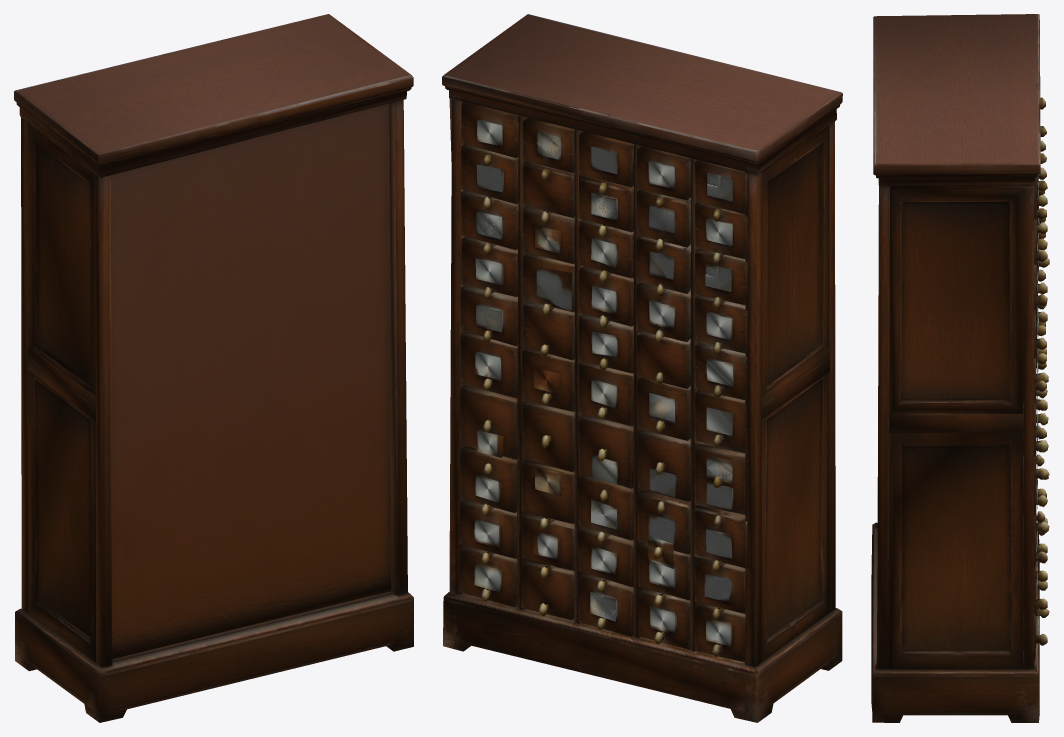
Rendered from furniture-multi-drawer-file-cabinet.glb.
3 renders of one model, left to right at view 1: azimuth 30°, elevation 25°; view 2: azimuth 150°, elevation 25°; view 3: azimuth 270°, elevation 25°, orthographic. The views are drawn at different scales.
Visible parts, largest first — view 1: tripo_node_92e1fb6b-b6b1-4789-9920-8fc09597d9d2; view 2: tripo_node_92e1fb6b-b6b1-4789-9920-8fc09597d9d2; view 3: tripo_node_92e1fb6b-b6b1-4789-9920-8fc09597d9d2.
Part boxes in pixels (x1,y1,x2,y2): tripo_node_92e1fb6b-b6b1-4789-9920-8fc09597d9d2: (14, 14, 413, 722); tripo_node_92e1fb6b-b6b1-4789-9920-8fc09597d9d2: (442, 14, 842, 722); tripo_node_92e1fb6b-b6b1-4789-9920-8fc09597d9d2: (871, 14, 1049, 722).
Bounding box in the file's own units: 1.3 × 2.25 × 0.65.
1 material, 1 textured.
